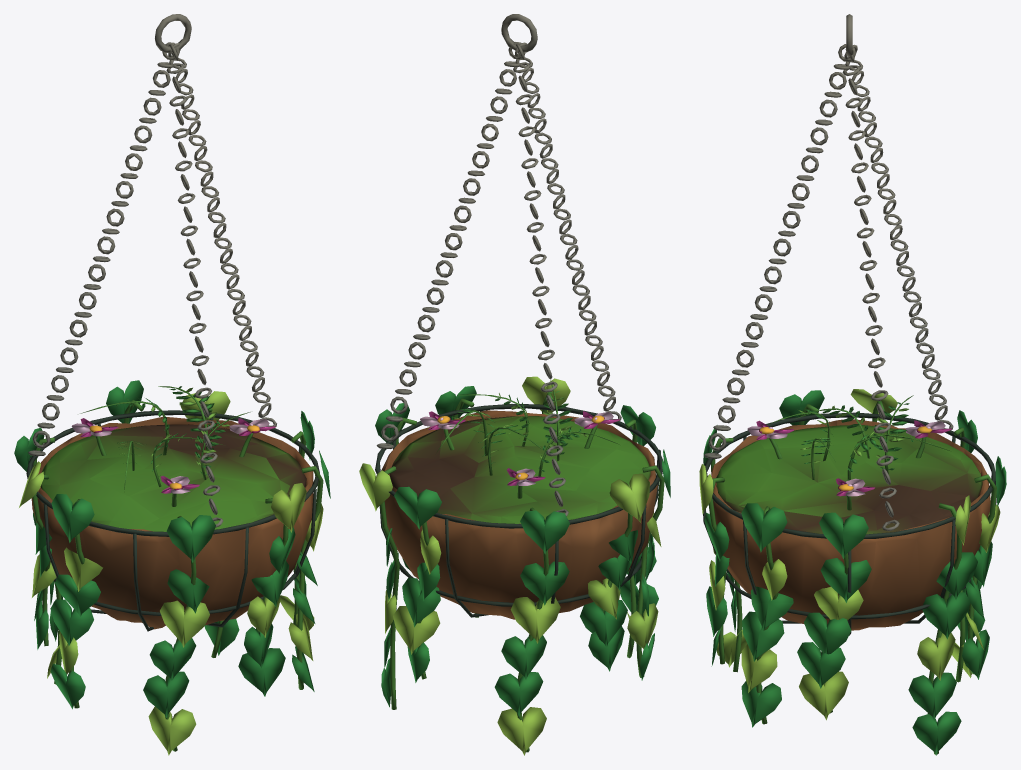
File: canopy_hanging_basket_lod1.glb
3 views of the same model, side by side, from view 1: azimuth 30°, elevation 25°; view 2: azimuth 150°, elevation 25°; view 3: azimuth 270°, elevation 25° (orthographic).
Parts seen in each view (by area): view 1: canopy_hanging_basket.001; view 2: canopy_hanging_basket.001; view 3: canopy_hanging_basket.001.
Part boxes in pixels (x1,y1,x2,y2): canopy_hanging_basket.001: (14, 14, 330, 755); canopy_hanging_basket.001: (359, 14, 670, 755); canopy_hanging_basket.001: (699, 14, 1006, 755).
Size of the model in its own units: 16.14 by 38.89 by 15.53.
